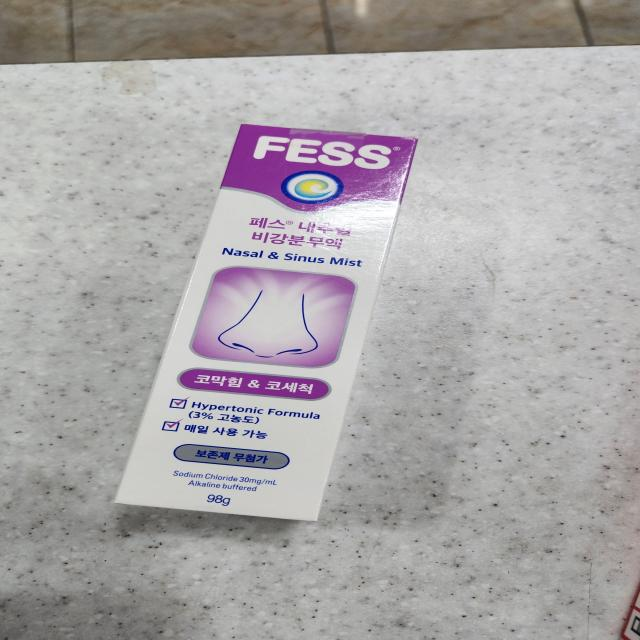box: (116, 127, 414, 519), (623, 584, 640, 638)
